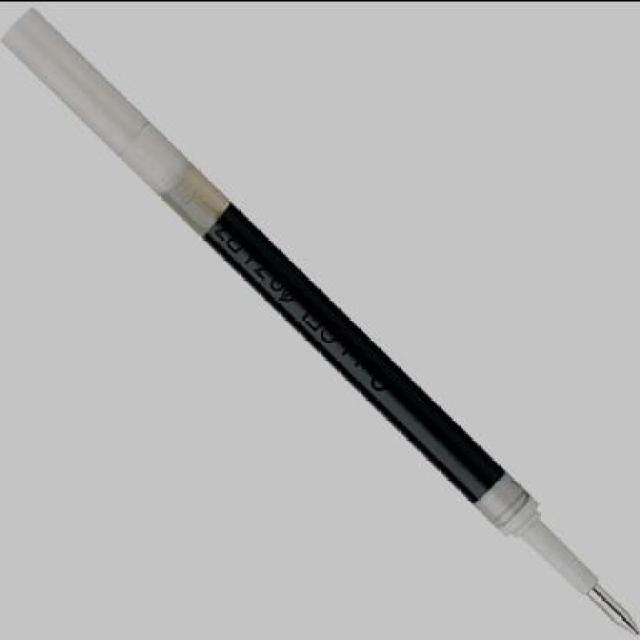pen: (10, 7, 640, 620)
